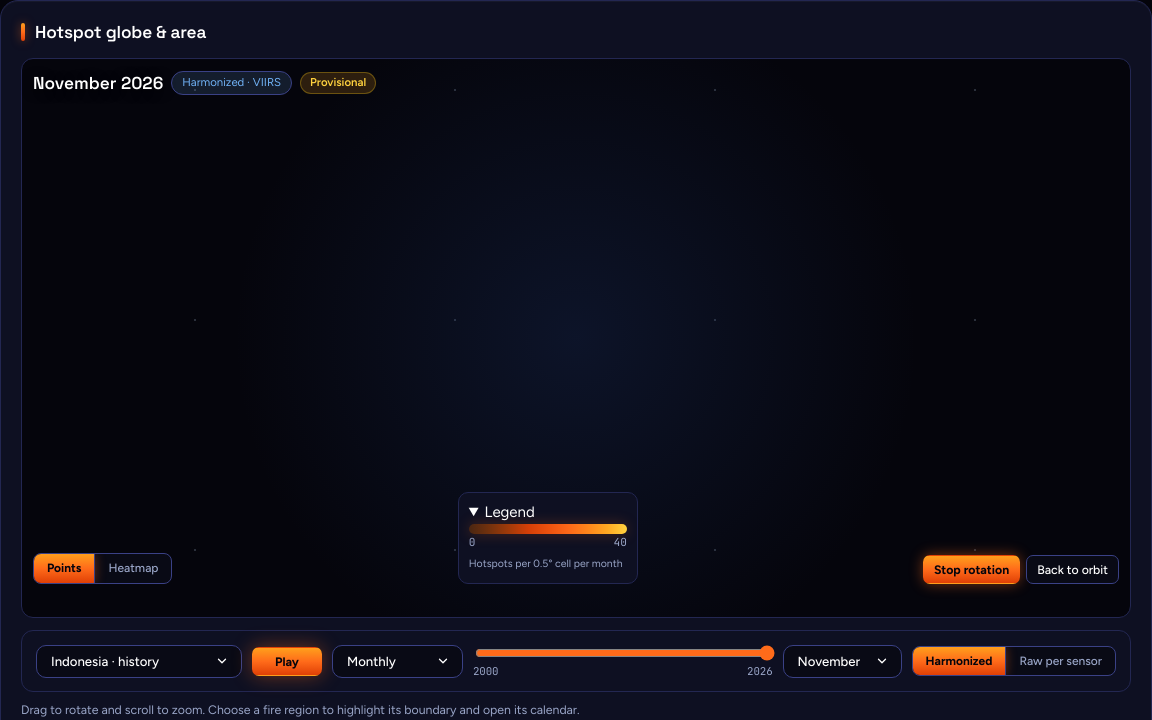
Test: GlobeMap › toggles the idle rotation
The image size is (1152, 720).
Step 1. Click the button "Stop rotation" → (972, 569), box [923,555,1020,584]
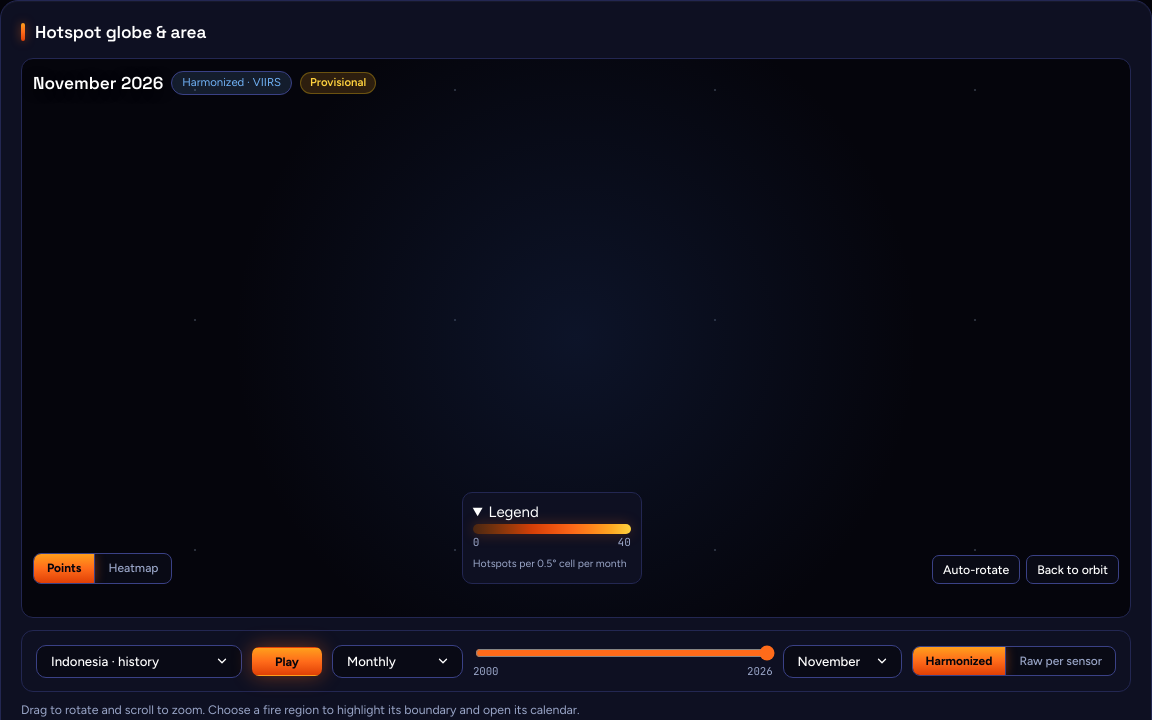
Now the button "Auto-rotate" is not pressed, box [932,555,1020,584]
